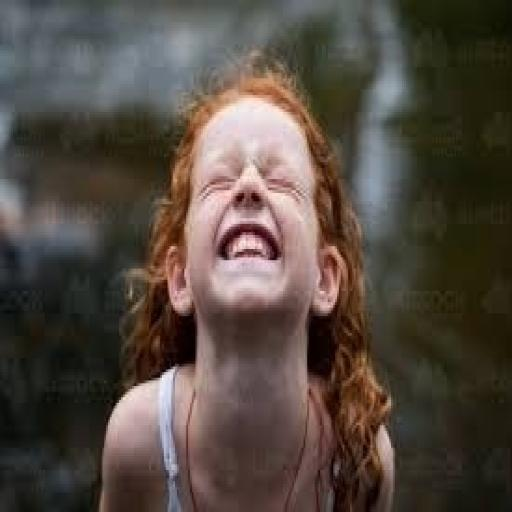laughing: (93, 48, 400, 506)
